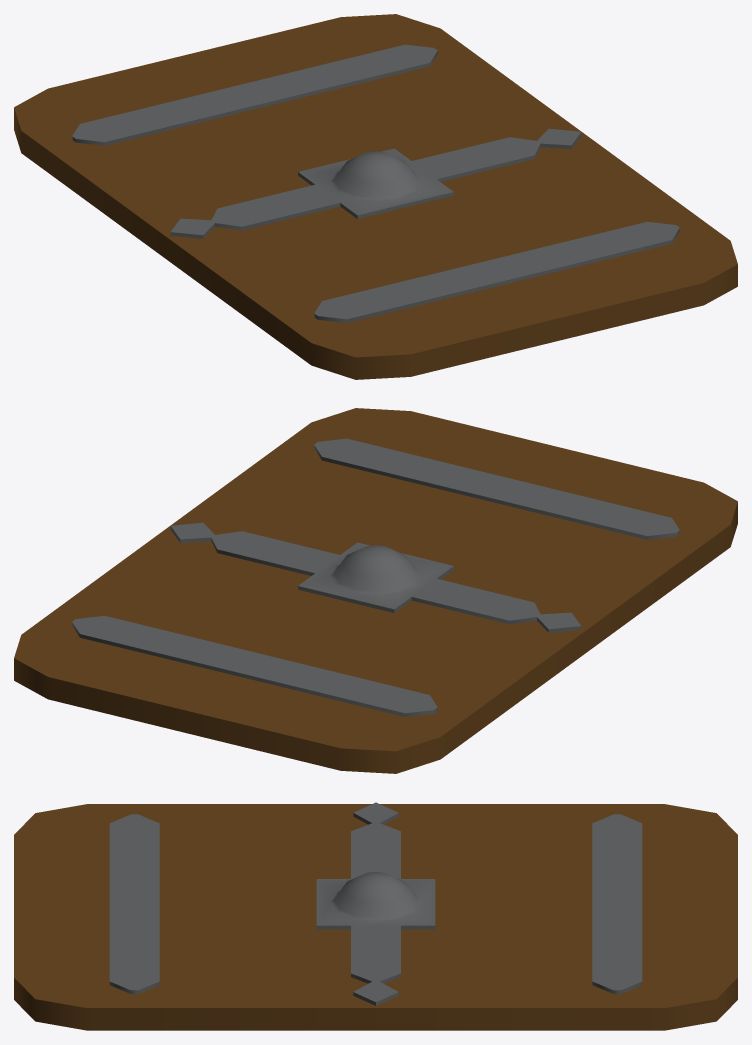
Rendered from Shield1.fbx.
3 views of the same model, one above another, from view 1: azimuth 30°, elevation 25°; view 2: azimuth 150°, elevation 25°; view 3: azimuth 270°, elevation 25° (orthographic).
Visible parts, largest first — view 1: Shield1; view 2: Shield1; view 3: Shield1.
Part boxes in pixels (x1,y1,x2,y2): Shield1: (14, 14, 737, 379); Shield1: (14, 408, 737, 773); Shield1: (14, 802, 737, 1030).
Size of the model in its own units: 200 by 24.01 by 300.
